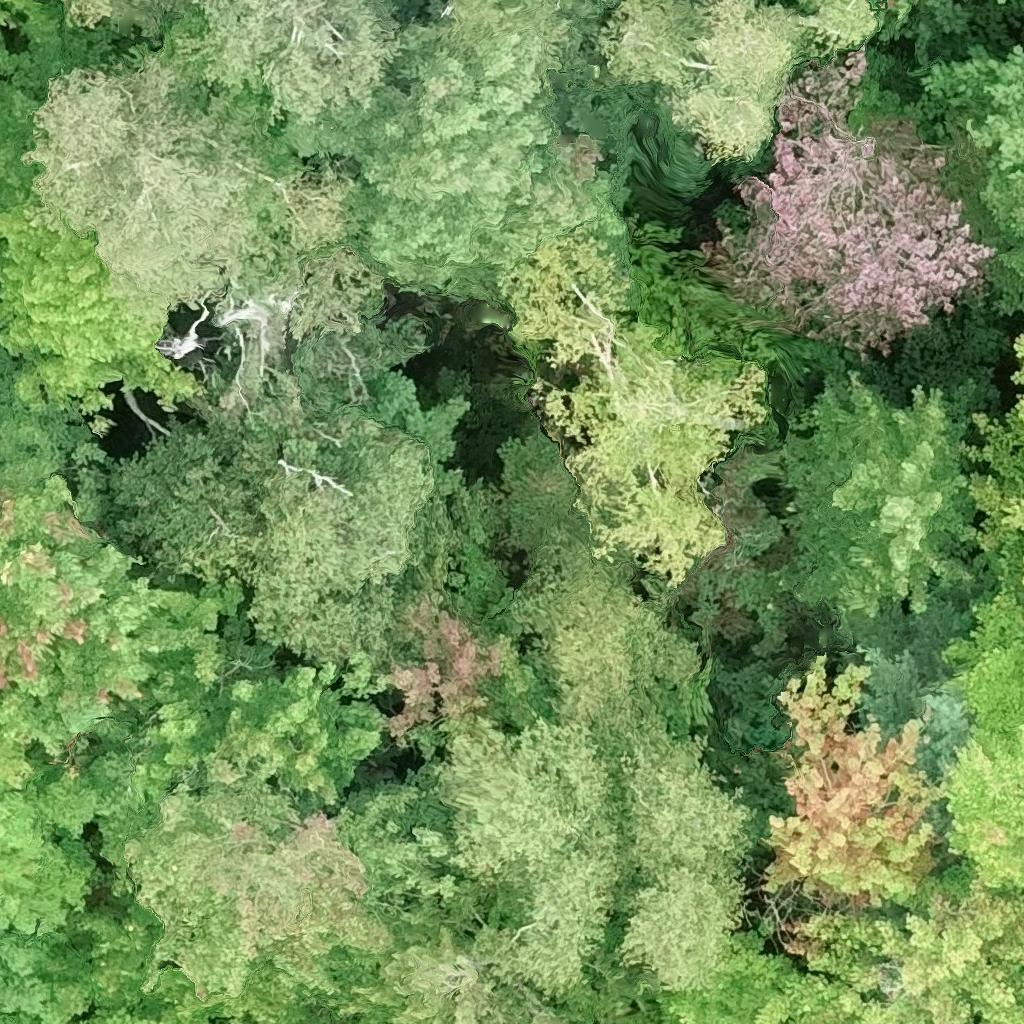crown: (0, 422, 387, 804), (109, 289, 490, 665), (20, 39, 383, 426), (100, 758, 533, 1003), (273, 33, 624, 305), (0, 0, 197, 465), (703, 45, 1000, 352), (511, 234, 765, 581), (658, 856, 1023, 1023), (775, 370, 975, 634), (438, 718, 618, 1000), (354, 540, 568, 760), (763, 653, 941, 909), (850, 76, 1023, 320), (0, 905, 350, 1023), (509, 532, 693, 749), (834, 551, 999, 790), (601, 0, 810, 165), (0, 725, 138, 938), (167, 0, 406, 117), (330, 926, 576, 1023), (619, 725, 756, 891), (616, 866, 746, 992), (917, 43, 1023, 174), (939, 726, 1023, 888), (946, 590, 1023, 753), (965, 392, 1023, 513), (980, 497, 1023, 608), (797, 0, 879, 52), (64, 0, 186, 34), (80, 1005, 185, 1023), (931, 0, 977, 29), (0, 0, 42, 28), (1012, 336, 1023, 385), (996, 0, 1011, 4)
